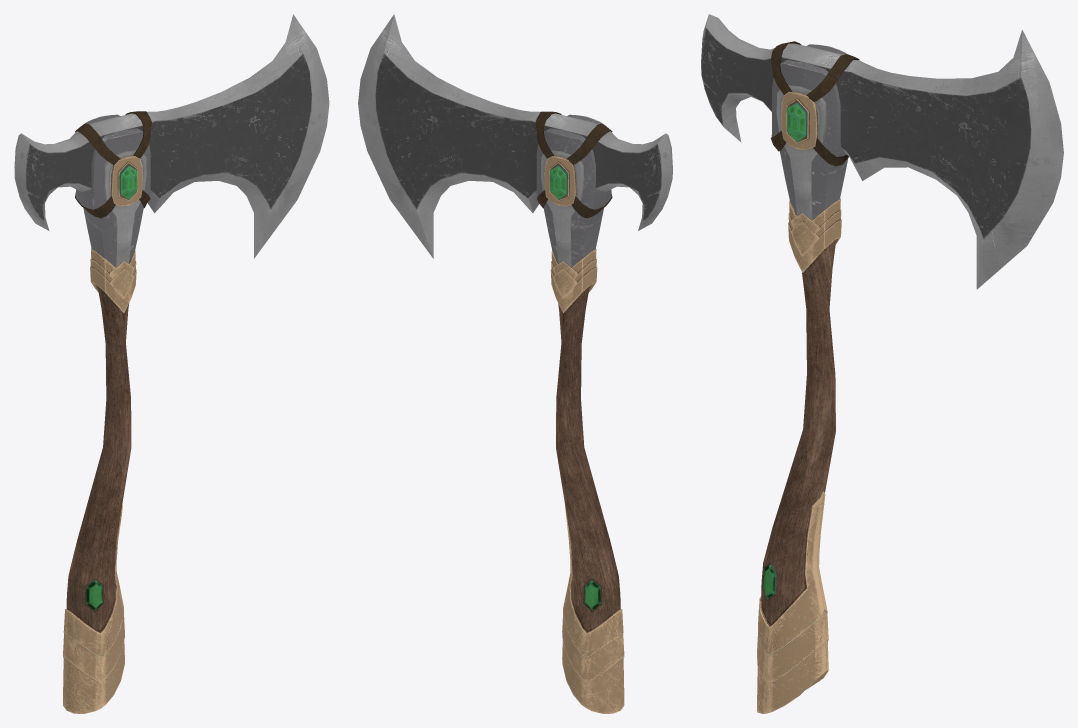
The model's file is stylized_axe.glb.
3 views of the same model, side by side, from view 1: azimuth 30°, elevation 25°; view 2: azimuth 150°, elevation 25°; view 3: azimuth 330°, elevation 25° (orthographic). The views are drawn at different scales.
Visible parts, largest first — view 1: Axe_Axe_0; view 2: Axe_Axe_0; view 3: Axe_Axe_0.
Part boxes in pixels (x1,y1,x2,y2): Axe_Axe_0: (14, 14, 329, 713); Axe_Axe_0: (358, 14, 672, 713); Axe_Axe_0: (701, 14, 1063, 713).
Size of the model in its own units: 0.3857 by 0.7527 by 0.0748.
1 material, 1 textured.
